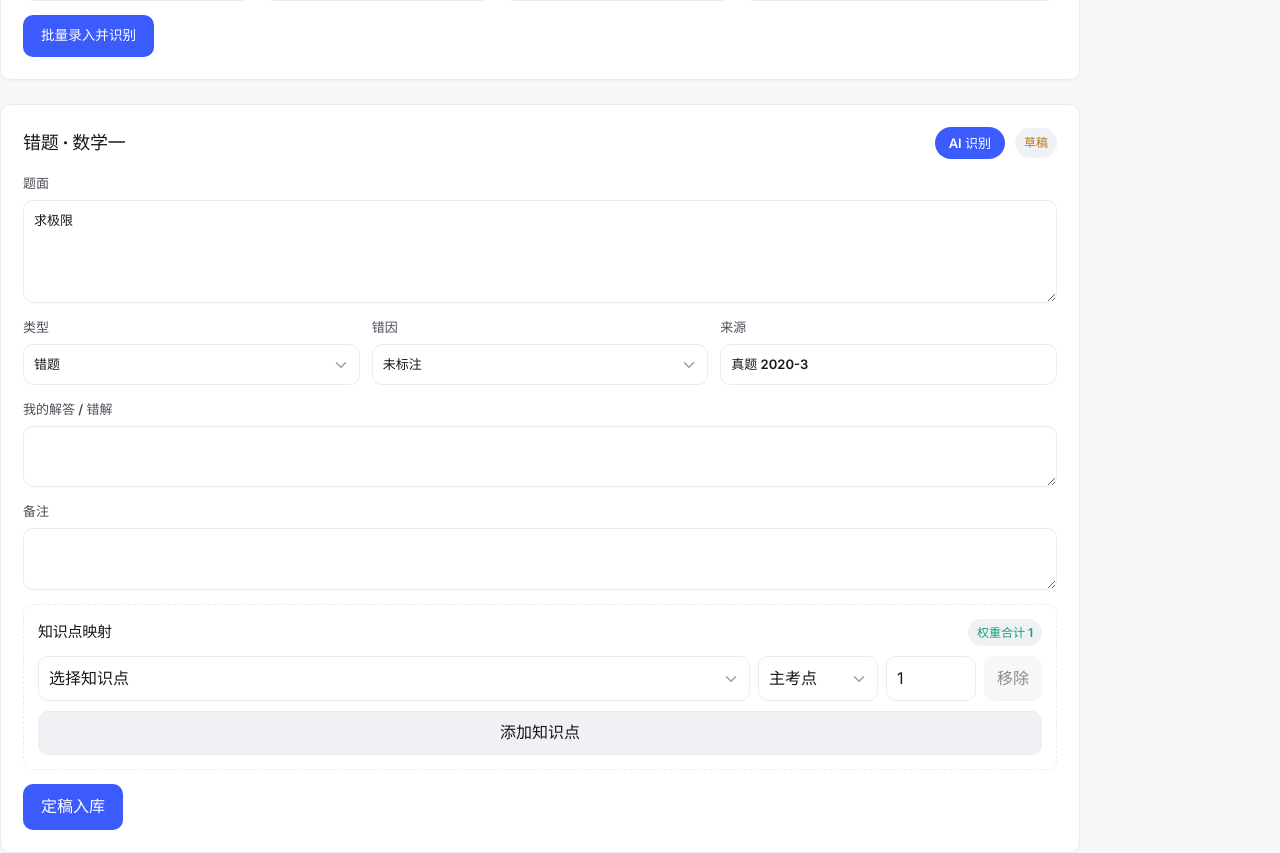
Test case: ProblemsView › validates mappings before confirming
The width and height of the screenshot is (1280, 853).
(page scrolled)
Step 1. Click the button with class "confirm-button" → point(73, 807), box [23,784,123,830]
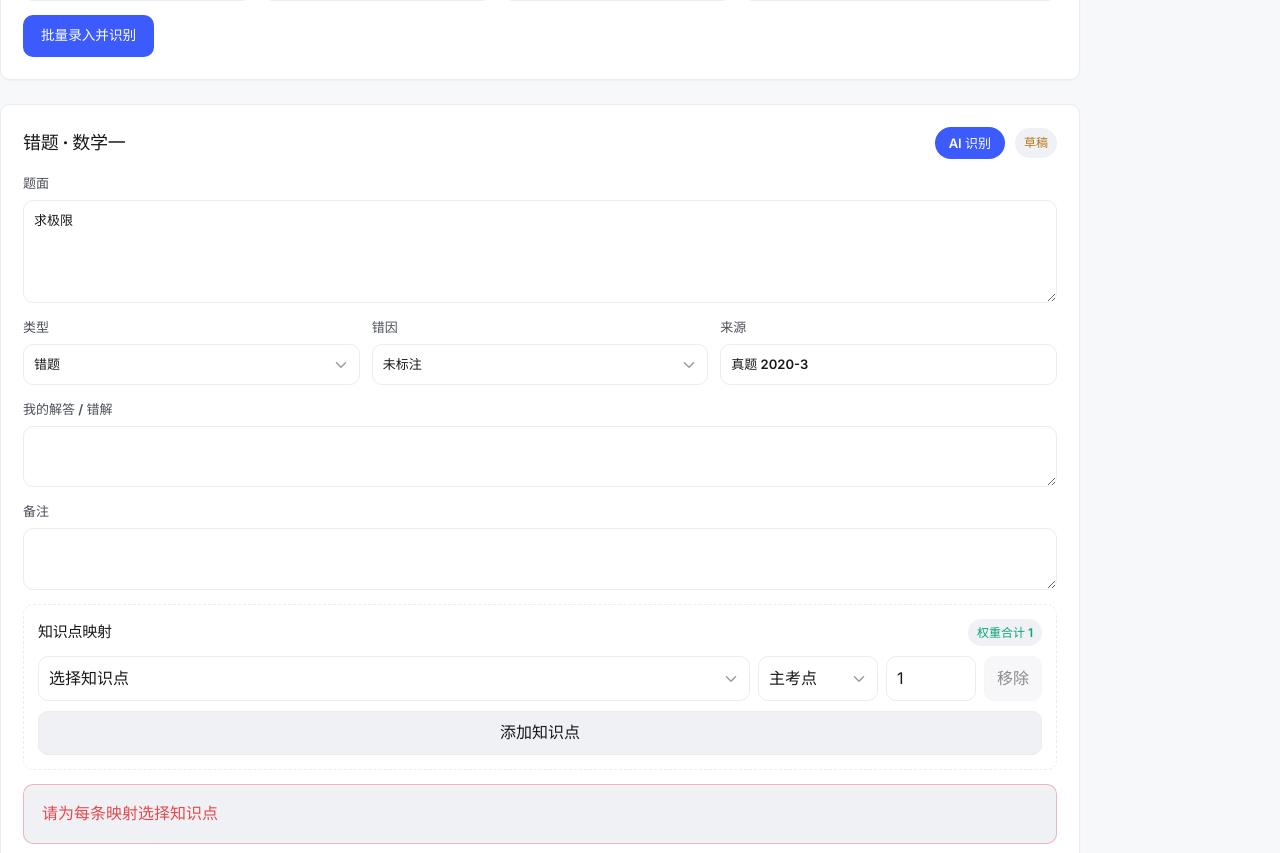
Now the text "请为每条映射选择知识点" is shown, box [23,784,1057,844]
